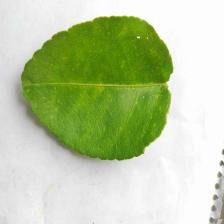greening: (20, 19, 171, 149)
